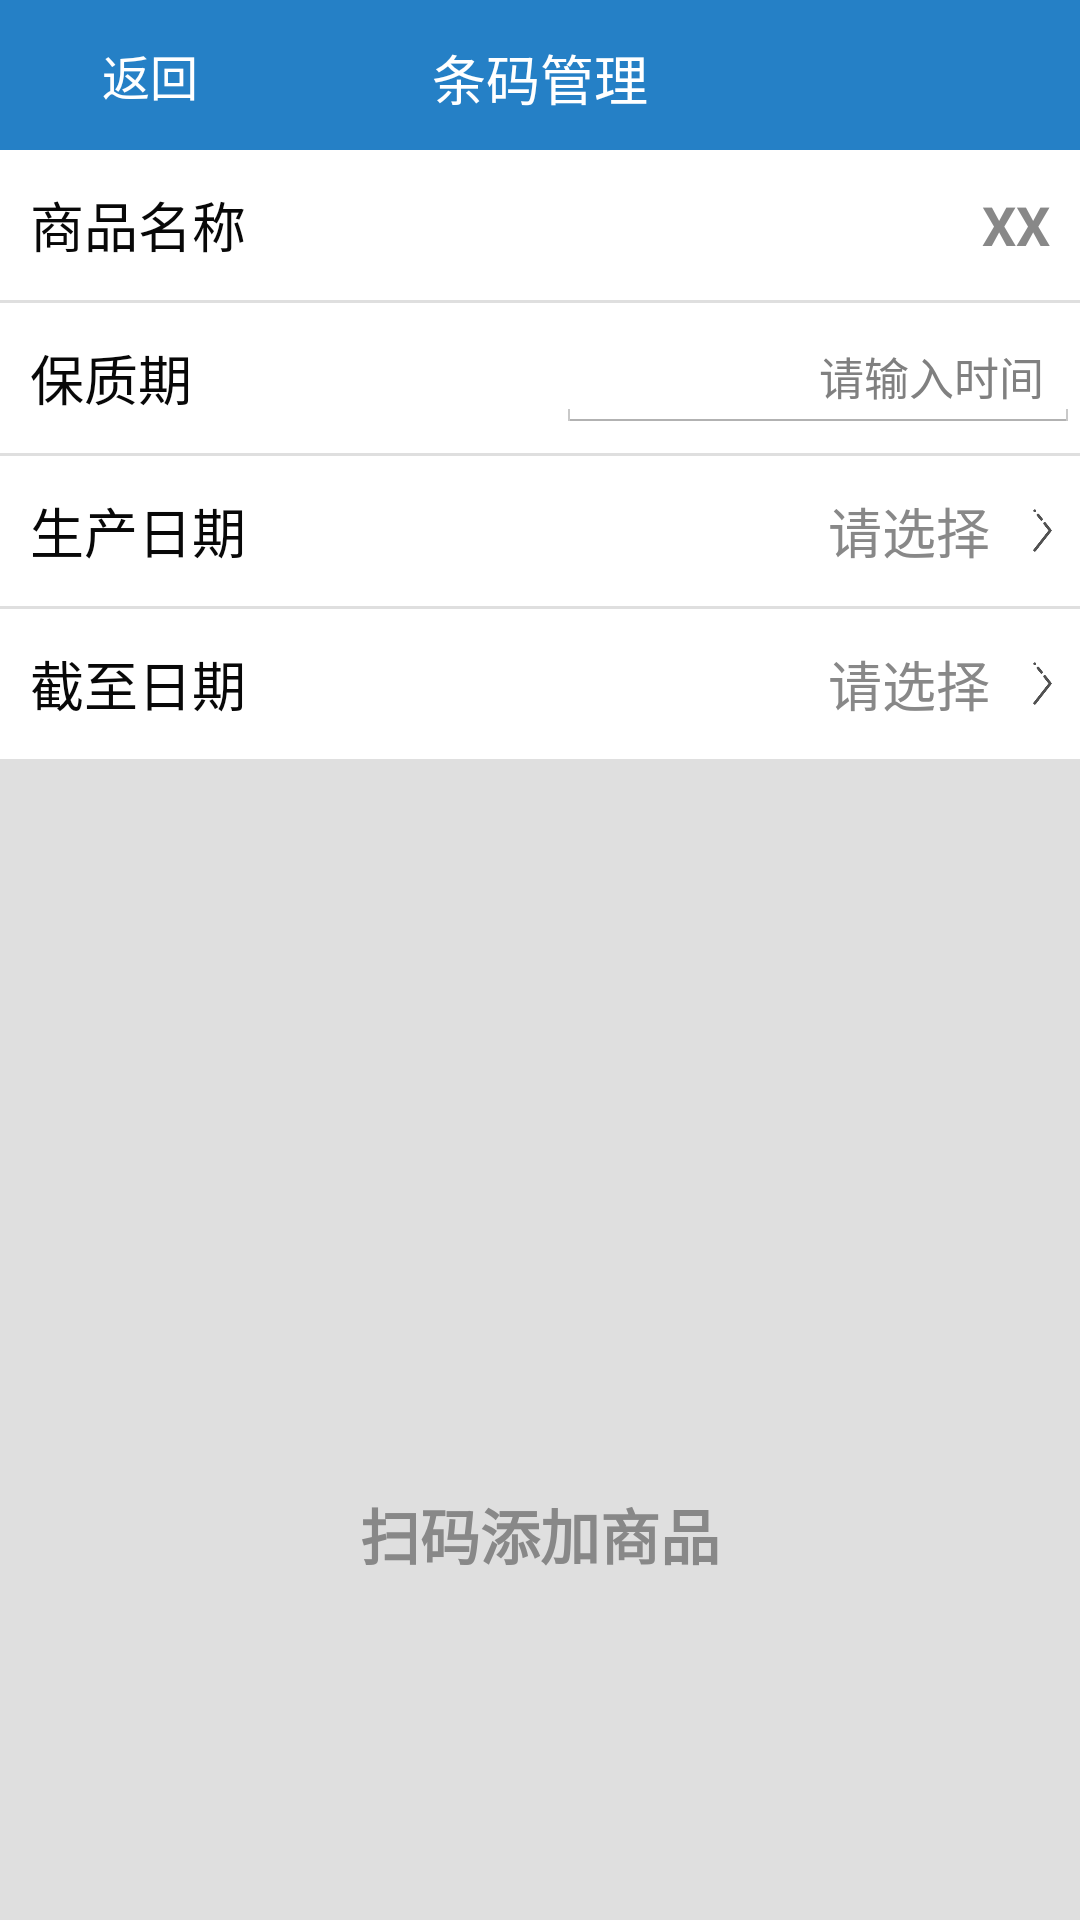

Icons on this 1080px×1920px Android screen, each with the point to tap as (x,y):
toright: (1042,530), (1042,683)
